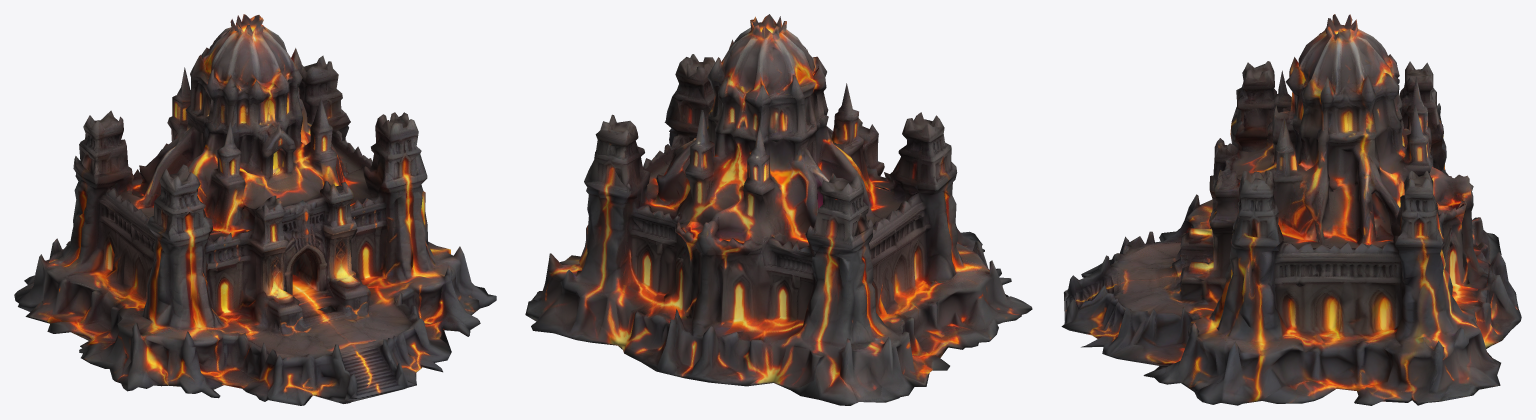
File: temple.glb
The picture shows the model from 3 angles, left to right: view 1: azimuth 30°, elevation 25°; view 2: azimuth 150°, elevation 25°; view 3: azimuth 270°, elevation 25°; orthographic projection. The views are drawn at different scales.
Size of the model in its own units: 1.97 by 1.4 by 2.
1 material, 1 textured.
